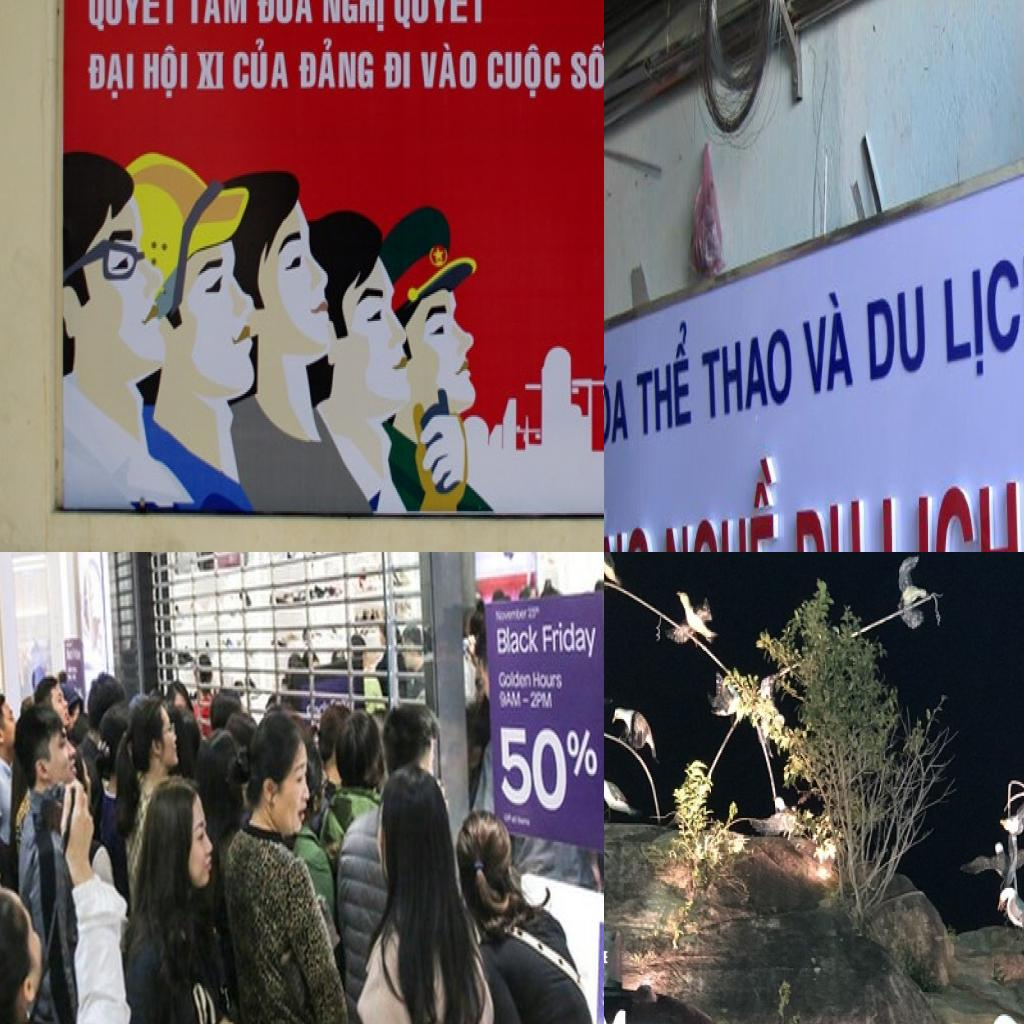text: (662, 434, 785, 552), (936, 234, 1024, 388), (695, 316, 800, 433), (496, 716, 604, 826), (879, 475, 1024, 552), (633, 309, 696, 450), (859, 275, 931, 394), (795, 280, 861, 404), (604, 458, 655, 552), (297, 36, 375, 90), (793, 495, 866, 552), (487, 44, 561, 100), (604, 351, 633, 463), (88, 0, 178, 34), (233, 38, 290, 90), (420, 42, 478, 92), (393, 0, 487, 30), (541, 614, 602, 660), (142, 44, 188, 100), (87, 54, 135, 102), (322, 0, 385, 32), (492, 622, 542, 660), (185, 0, 248, 27), (570, 40, 604, 90), (256, 0, 315, 25), (195, 50, 225, 92), (384, 52, 411, 90), (496, 669, 534, 691), (532, 669, 566, 691), (499, 688, 525, 712), (529, 689, 557, 711)
